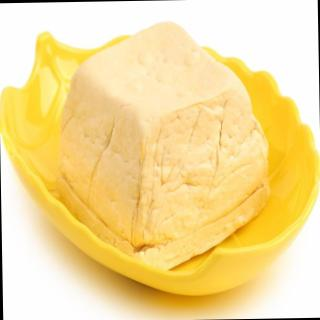Tahu: (44, 22, 277, 244)
